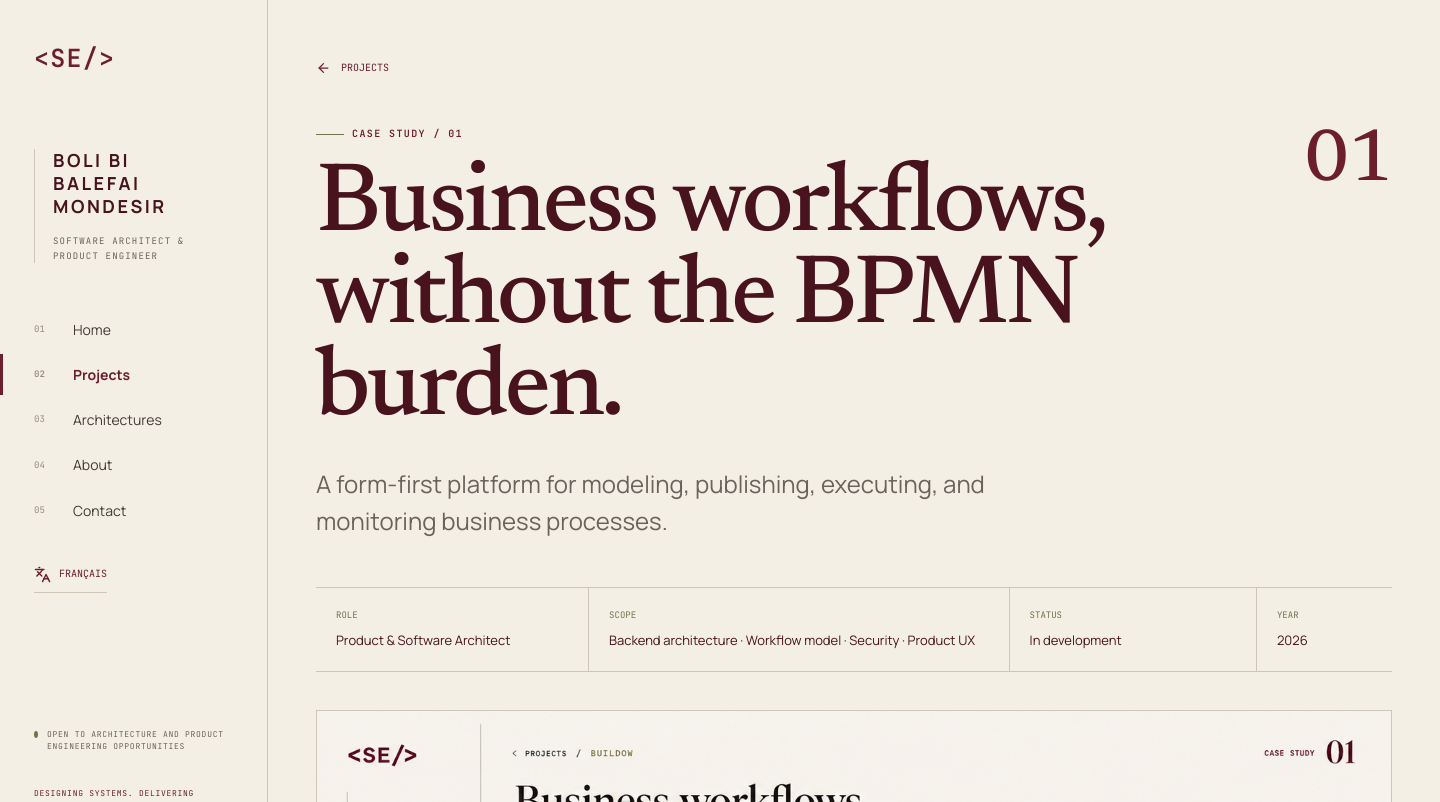
renders a complete case study and switches locale without losing the route
Expected: the heading "Business workflows, without the BPMN burden." is shown, [316,158,1104,440]
Click the button "Français" at (70, 575), box [34,557,107,593]
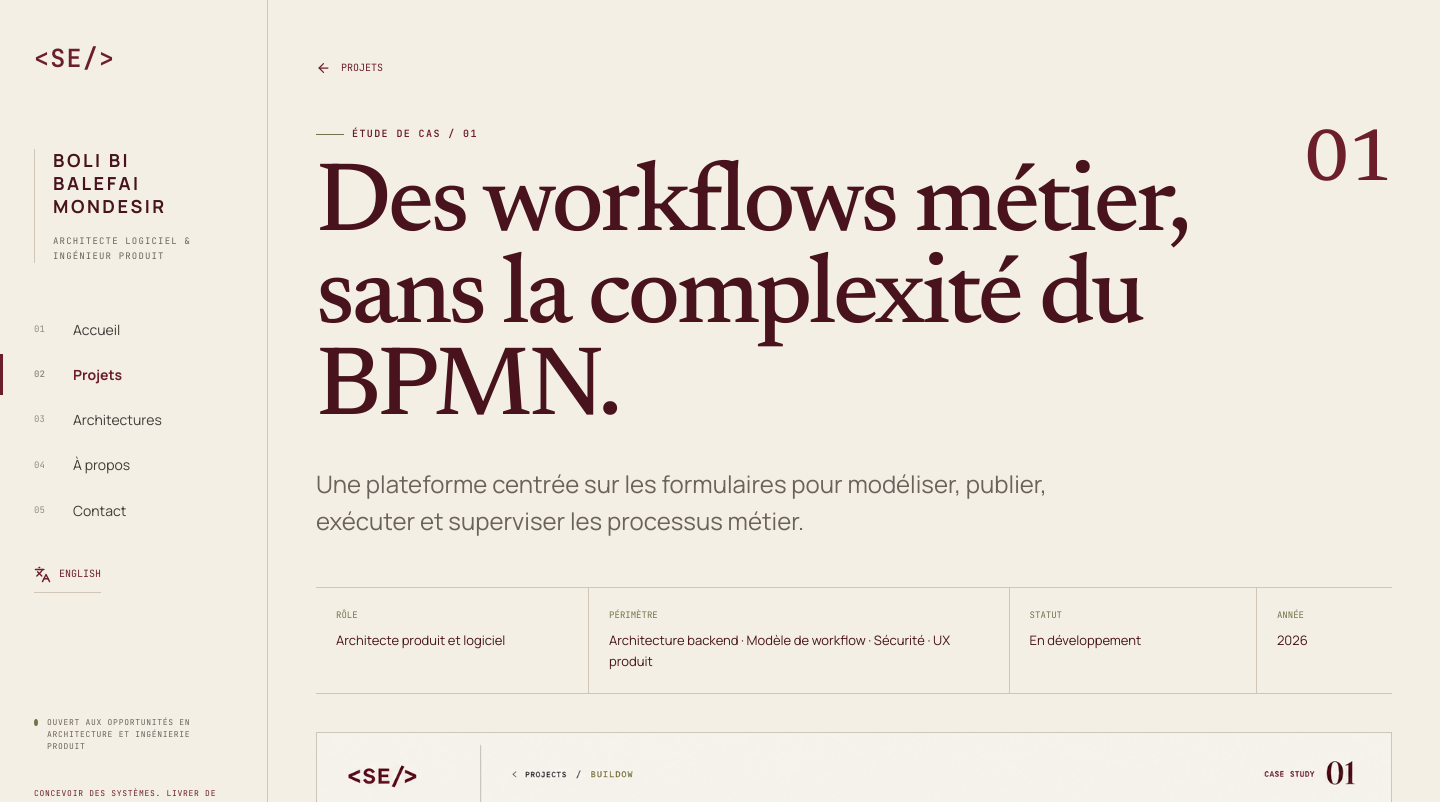
Expected: the heading "Des workflows métier, sans la complexité du BPMN." is shown, [316,160,1275,437]
